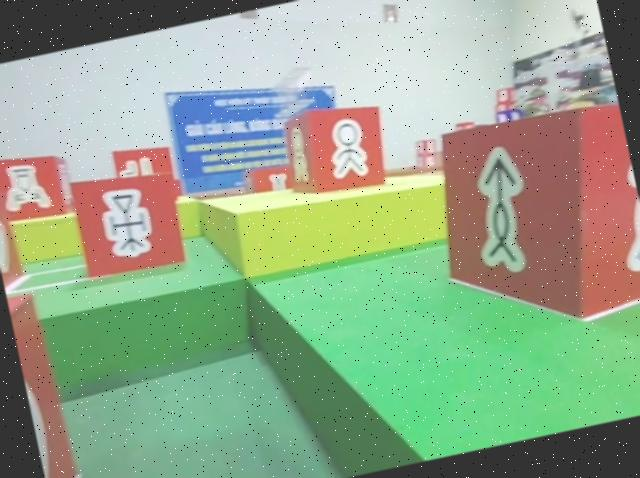R2 Real: (416, 92, 640, 346), (64, 157, 191, 286), (4, 287, 88, 478), (272, 90, 396, 207), (0, 141, 78, 231), (0, 180, 27, 294)
